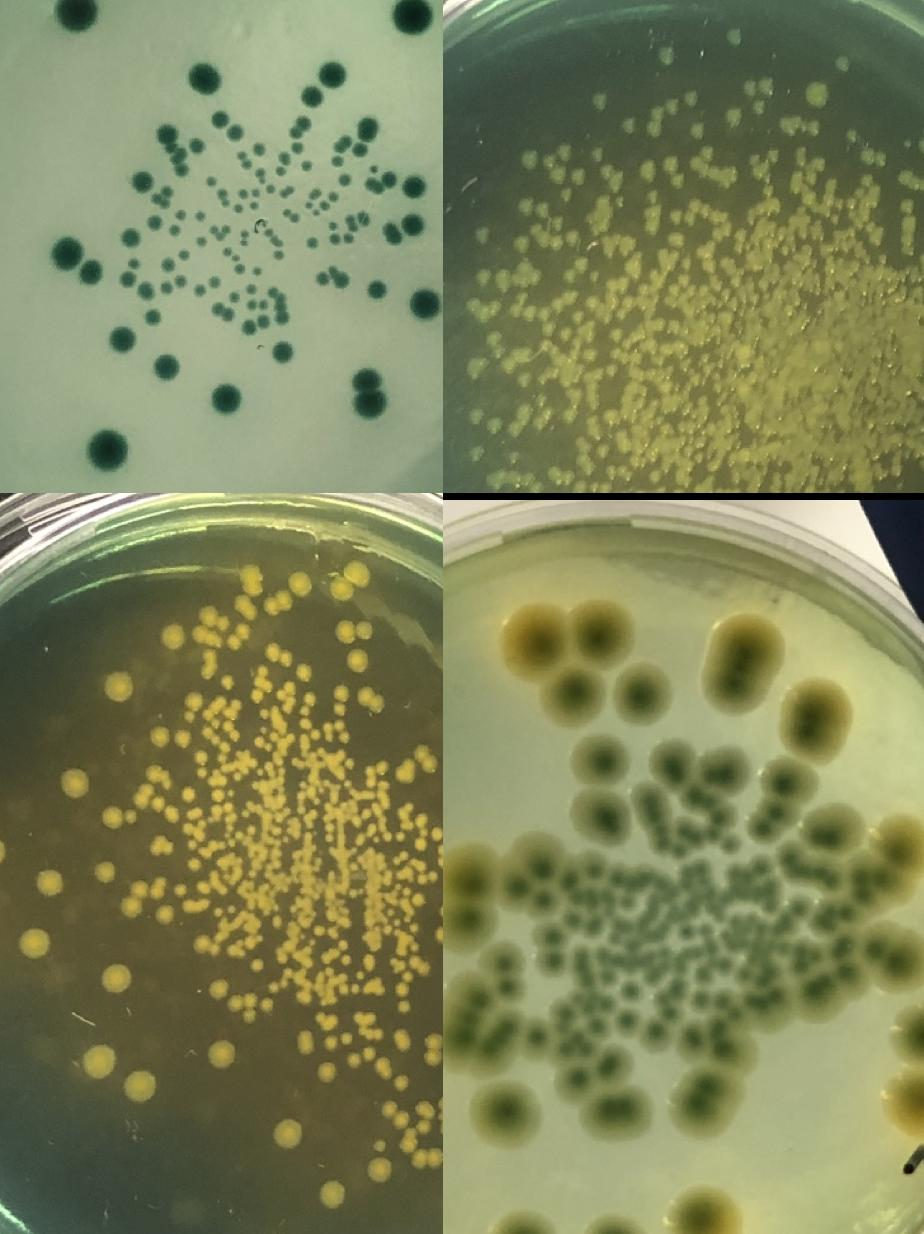pddamselae: (51, 236, 104, 284), (154, 124, 189, 180), (86, 430, 126, 470), (380, 214, 426, 247), (393, 0, 433, 35), (256, 287, 288, 329), (407, 287, 443, 323), (55, 0, 96, 31), (324, 212, 359, 248), (352, 386, 387, 420), (186, 60, 220, 94), (211, 382, 244, 416), (286, 115, 310, 156), (316, 61, 348, 91), (362, 172, 398, 196), (330, 134, 352, 170), (117, 256, 141, 288), (221, 246, 245, 276), (158, 274, 188, 297), (216, 188, 242, 214), (254, 166, 276, 196), (109, 328, 136, 352), (128, 170, 155, 194), (152, 356, 178, 380), (269, 342, 295, 366), (401, 176, 427, 200), (236, 188, 260, 212), (302, 200, 330, 220), (149, 187, 173, 210), (356, 118, 378, 142), (210, 302, 234, 323), (206, 224, 232, 242), (234, 150, 252, 172), (262, 227, 281, 247), (301, 88, 322, 106), (120, 230, 140, 248), (135, 283, 155, 301), (143, 309, 163, 327), (366, 281, 386, 299), (210, 111, 228, 129), (225, 126, 245, 142), (282, 207, 300, 224), (146, 215, 164, 231), (245, 298, 268, 310), (304, 236, 321, 252), (336, 172, 353, 188), (161, 256, 176, 272), (251, 141, 266, 157), (278, 185, 294, 200), (352, 142, 367, 158), (237, 231, 251, 248), (239, 320, 256, 334), (314, 272, 330, 286), (334, 274, 349, 288), (356, 213, 370, 225), (243, 283, 256, 295), (307, 188, 320, 200), (168, 224, 180, 236), (173, 208, 185, 220), (178, 249, 190, 261), (191, 141, 203, 153), (192, 285, 204, 297), (194, 211, 206, 223), (195, 236, 207, 248), (205, 175, 217, 187), (208, 276, 220, 288), (228, 292, 240, 304), (251, 266, 263, 278), (272, 250, 284, 262), (274, 165, 286, 177), (278, 152, 290, 164), (301, 159, 313, 171), (330, 190, 342, 202), (368, 163, 380, 175)
valgino: (499, 597, 635, 732), (570, 732, 632, 849), (468, 1078, 542, 1154), (803, 799, 863, 859), (614, 666, 673, 726), (666, 1189, 740, 1234), (443, 846, 496, 906), (888, 1073, 924, 1135), (485, 1208, 559, 1234), (894, 1005, 924, 1067), (478, 942, 522, 977), (528, 1020, 551, 1058), (582, 852, 610, 878), (495, 975, 522, 1000)
vangil: (508, 290, 549, 321), (670, 199, 711, 226), (664, 272, 698, 298), (532, 394, 556, 430), (560, 256, 588, 286), (692, 240, 716, 272), (466, 298, 500, 319), (804, 80, 828, 106), (538, 322, 556, 352), (614, 295, 634, 321), (550, 291, 576, 310), (546, 466, 574, 483), (535, 232, 562, 249), (602, 463, 628, 478), (474, 268, 492, 284), (638, 162, 656, 178), (724, 108, 742, 124), (858, 148, 876, 164), (898, 198, 916, 214), (472, 226, 489, 242), (594, 443, 611, 459), (658, 48, 675, 64), (687, 123, 704, 139), (556, 188, 574, 203), (516, 372, 532, 388), (516, 198, 532, 214), (540, 153, 556, 169), (662, 156, 678, 172), (670, 173, 686, 189), (698, 145, 714, 161), (726, 27, 742, 43), (740, 80, 756, 96), (758, 79, 774, 95), (620, 118, 638, 132), (468, 445, 483, 461), (487, 417, 502, 433), (512, 237, 527, 253), (522, 150, 537, 166), (608, 326, 623, 342), (682, 90, 697, 106), (899, 169, 914, 185), (551, 169, 566, 184), (570, 169, 585, 184), (468, 408, 482, 424), (500, 358, 514, 374), (536, 201, 550, 217), (556, 144, 570, 160), (646, 121, 660, 137), (664, 98, 678, 114), (752, 99, 766, 115), (834, 55, 848, 71), (592, 95, 606, 110), (516, 406, 530, 420), (550, 216, 564, 230), (558, 326, 572, 340), (562, 408, 576, 422), (564, 230, 578, 244), (582, 348, 596, 362), (584, 294, 598, 308), (590, 147, 604, 161), (603, 278, 617, 292), (604, 362, 618, 376), (612, 195, 626, 209), (644, 220, 658, 234), (645, 188, 659, 202), (646, 470, 660, 484), (678, 256, 692, 270), (684, 420, 698, 434), (706, 459, 720, 473), (746, 152, 760, 166), (767, 148, 781, 162), (823, 177, 837, 191), (588, 270, 601, 284), (670, 234, 684, 247), (571, 310, 585, 322), (598, 481, 612, 493), (598, 164, 612, 176), (600, 410, 614, 422), (666, 320, 678, 333), (692, 484, 706, 493), (669, 486, 683, 493), (919, 137, 924, 152)
vharveyi: (262, 568, 312, 616), (228, 990, 274, 1024), (398, 1134, 443, 1168), (79, 1043, 116, 1081), (122, 1067, 158, 1105), (17, 926, 52, 960), (147, 724, 191, 749), (270, 1118, 304, 1150), (316, 1180, 349, 1212), (333, 620, 373, 646), (58, 767, 90, 799), (99, 962, 131, 994), (102, 670, 134, 702), (204, 1038, 236, 1070), (99, 804, 137, 830), (354, 684, 386, 714), (34, 868, 65, 898), (379, 1100, 410, 1130), (158, 622, 186, 652), (365, 1155, 393, 1185), (198, 605, 230, 631), (319, 939, 351, 965), (421, 1032, 443, 1068), (232, 592, 258, 622), (181, 691, 204, 724), (412, 827, 443, 851), (344, 647, 370, 675), (412, 1100, 432, 1136), (322, 1032, 354, 1054), (344, 1046, 376, 1068), (91, 859, 117, 883), (331, 684, 348, 719), (226, 623, 248, 650), (252, 725, 273, 753), (205, 978, 229, 1002), (393, 982, 410, 1014), (192, 750, 208, 779), (154, 902, 174, 924), (294, 662, 312, 684), (262, 644, 280, 665), (435, 838, 443, 882), (415, 871, 438, 886), (313, 924, 337, 937), (435, 1115, 443, 1152), (337, 984, 361, 996), (372, 759, 390, 775), (148, 796, 164, 812), (180, 786, 194, 804), (220, 674, 234, 690), (302, 692, 318, 706), (249, 958, 264, 972), (433, 925, 443, 945), (372, 1139, 386, 1153), (394, 1076, 408, 1090), (172, 883, 186, 896), (186, 859, 200, 872), (184, 839, 198, 851), (308, 729, 322, 741), (435, 1093, 443, 1113), (363, 1012, 376, 1024), (258, 707, 270, 719), (342, 758, 354, 770), (393, 831, 405, 843), (397, 849, 409, 861), (407, 923, 419, 935), (436, 902, 443, 918)
